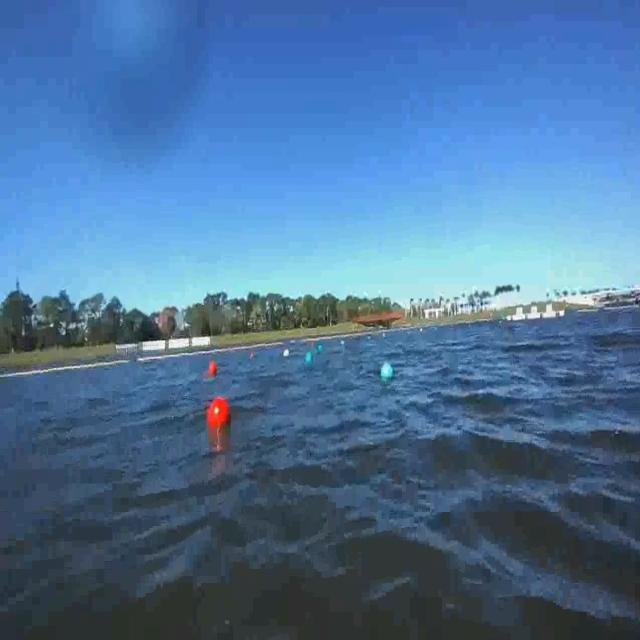green-buoy: (379, 362, 392, 384), (304, 351, 312, 366)
red-buoy: (208, 397, 230, 431), (210, 360, 220, 378)
